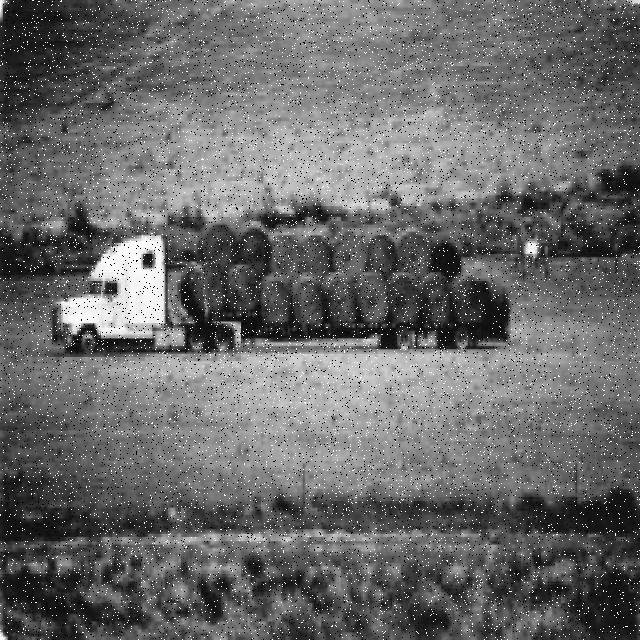Tractor Trailer: (48, 235, 475, 354)
